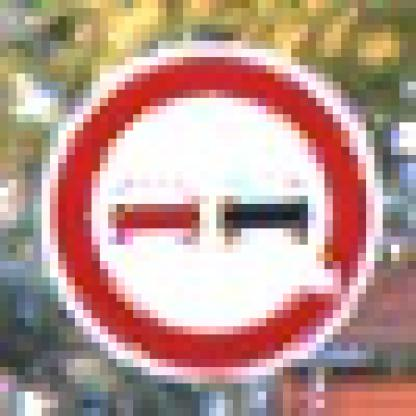No Overtaking: (43, 42, 376, 376)
